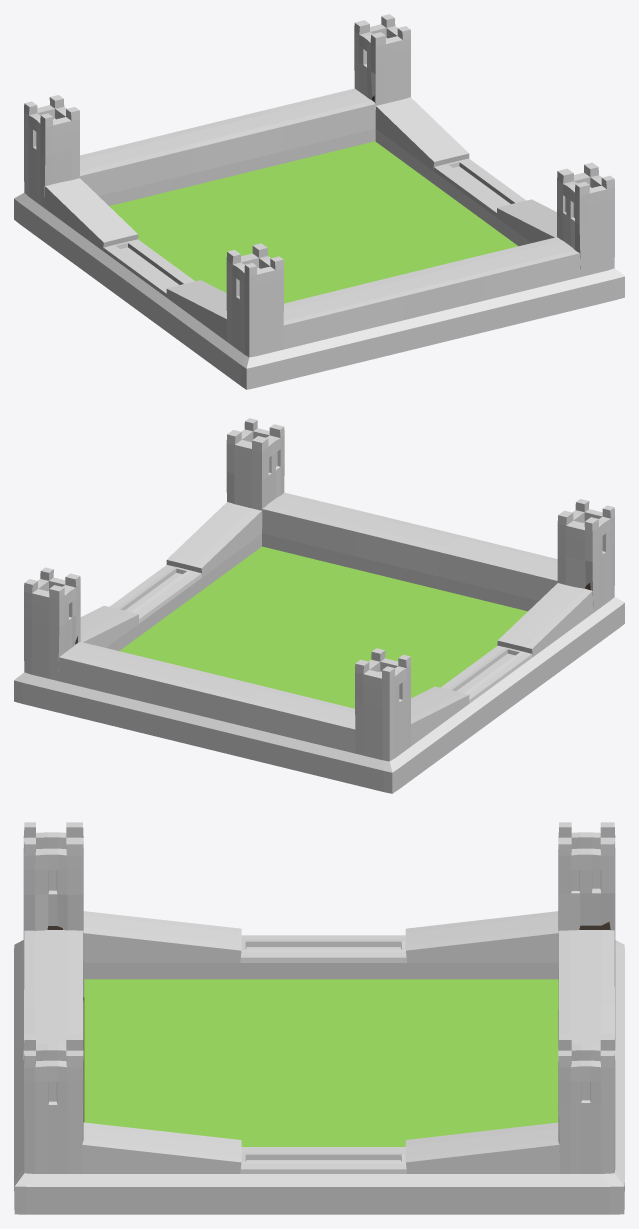
The model's file is Network Multilayer Gameboard.fbx.
3 renders of one model, top to bottom at view 1: azimuth 30°, elevation 25°; view 2: azimuth 150°, elevation 25°; view 3: azimuth 270°, elevation 25°, orthographic. The views are drawn at different scales.
Parts seen in each view (by area): view 1: Cube.001, Cube; view 2: Cube.001, Cube; view 3: Cube.001, Cube.
Part boxes in pixels (x1,y1,x2,y2): Cube.001: (14,14,624,389); Cube: (109,141,517,303); Cube.001: (14,418,624,793); Cube: (119,546,527,708); Cube.001: (14,822,624,1214); Cube: (84,979,558,1146).
Bounding box in the file's own units: 10718 × 3194 × 11410.
